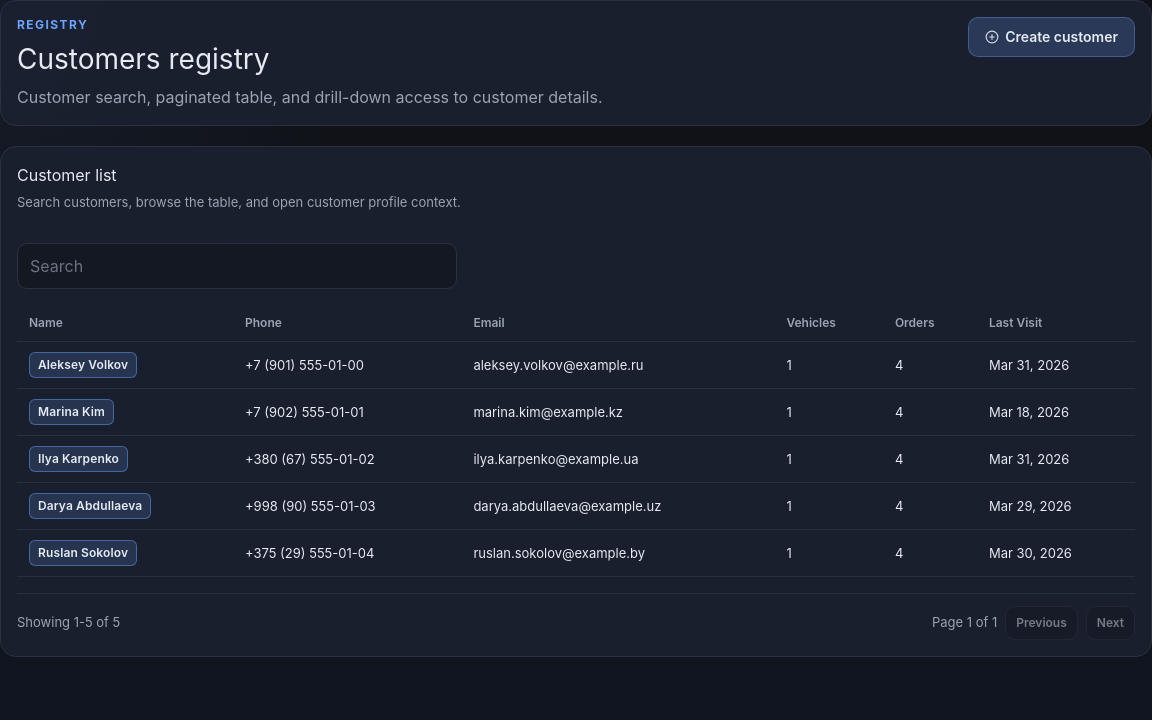
Test: CustomersRegistry › shows empty state for unknown search
Expected: the column heading "Name" is shown, [17, 305, 233, 341]
Type "no-such-customer" into the search field named "Customers search". click: (237, 266)
box: [17, 243, 457, 289]
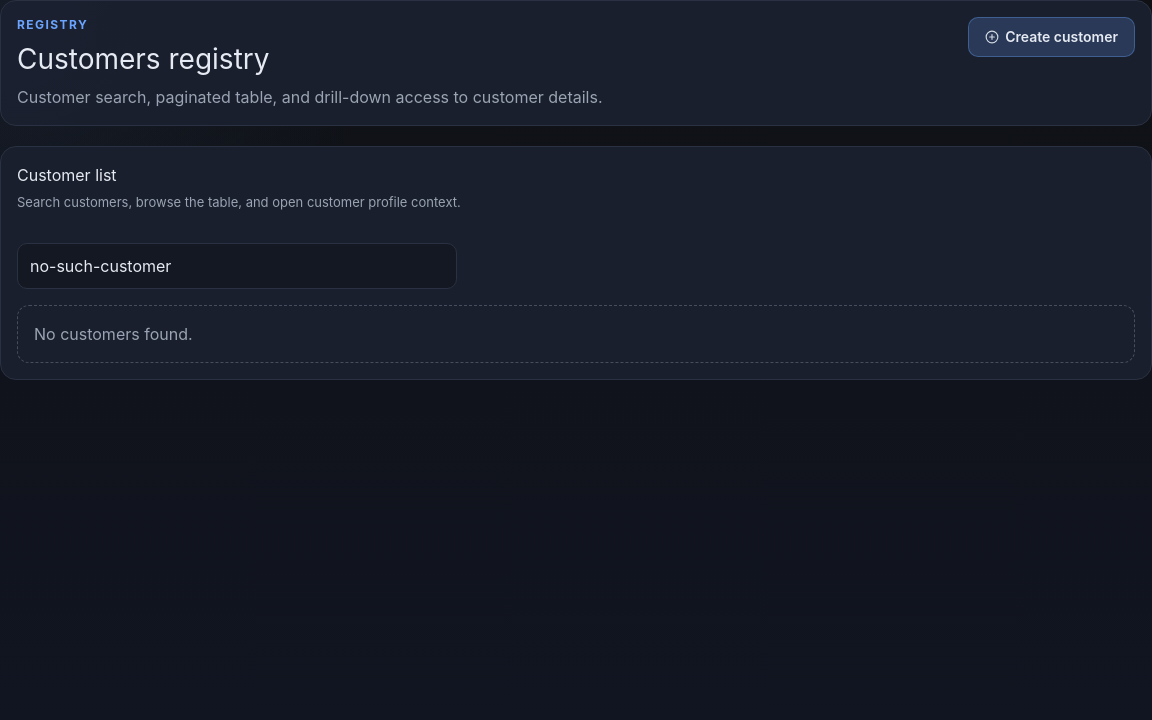
Result: the text "No customers found." is shown at [34, 322, 192, 346]
